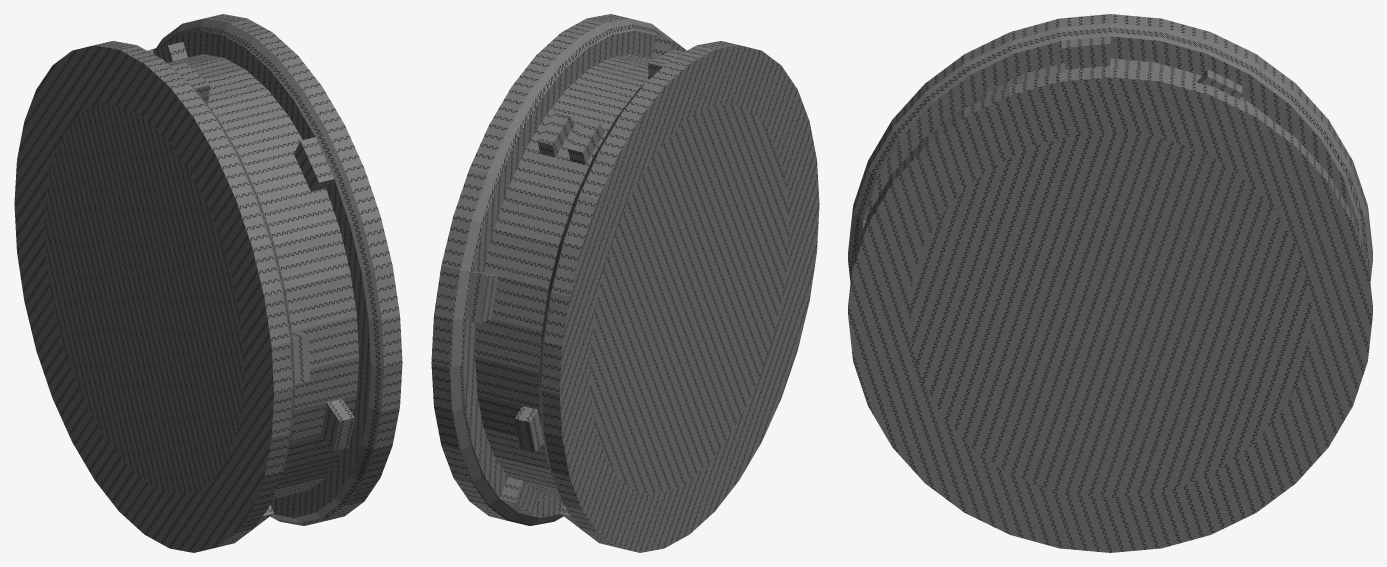
Rendered from cylinder_obstacle2.obj.
The picture shows the model from 3 angles, left to right: view 1: azimuth 30°, elevation 25°; view 2: azimuth 150°, elevation 25°; view 3: azimuth 270°, elevation 25°; orthographic projection.
Visible parts, largest first — view 1: CylinderObstacle_Cylinder; view 2: CylinderObstacle_Cylinder; view 3: CylinderObstacle_Cylinder.
Boxes of the visible parts, x1,y1,x2,y2 form: CylinderObstacle_Cylinder: (14,14,402,552); CylinderObstacle_Cylinder: (431,14,819,552); CylinderObstacle_Cylinder: (848,14,1372,552).
Bounding box in the file's own units: 2.43 × 8.51 × 8.51.
